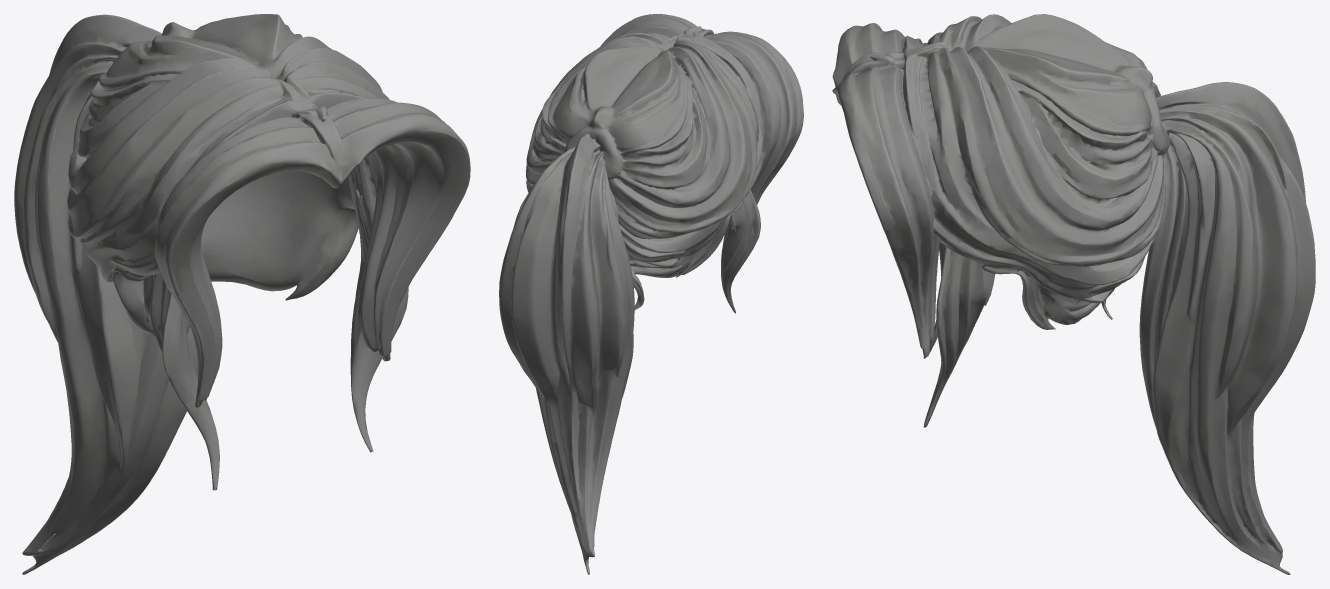
File: hair1.glb
The picture shows the model from 3 angles, left to right: view 1: azimuth 30°, elevation 25°; view 2: azimuth 150°, elevation 25°; view 3: azimuth 270°, elevation 25°; orthographic projection. The views are drawn at different scales.
Visible parts, largest first — view 1: tripo_node_23c426a4-ba70-4d59-97dd-9313444d81b7; view 2: tripo_node_23c426a4-ba70-4d59-97dd-9313444d81b7; view 3: tripo_node_23c426a4-ba70-4d59-97dd-9313444d81b7.
Boxes of the visible parts, x1,y1,x2,y2 form: tripo_node_23c426a4-ba70-4d59-97dd-9313444d81b7: (14,14,470,574); tripo_node_23c426a4-ba70-4d59-97dd-9313444d81b7: (499,14,803,574); tripo_node_23c426a4-ba70-4d59-97dd-9313444d81b7: (832,14,1315,574).
Bounding box in the file's own units: 0.5061 × 1 × 0.7691.
1 material, 1 textured.
